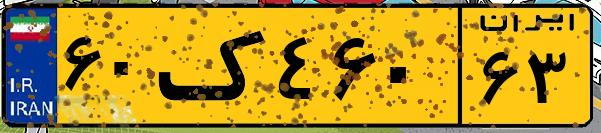0: (385, 28, 445, 110), (110, 28, 158, 98)
3: (525, 38, 570, 115)
4: (270, 28, 330, 110)
6: (330, 28, 385, 110), (57, 26, 110, 100), (475, 38, 525, 113)
ک: (158, 12, 270, 120)
